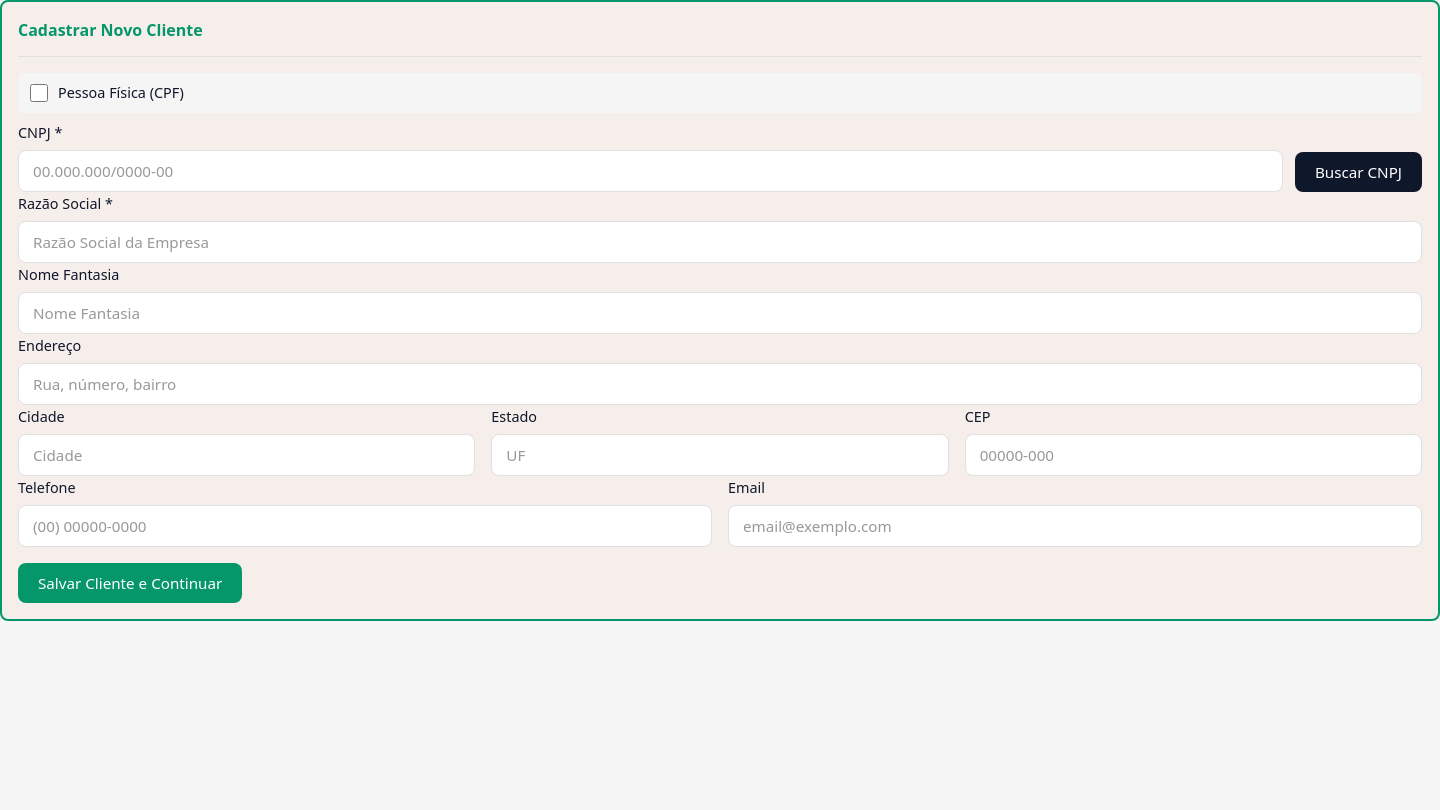
Test: NovoClienteForm › Alternar tipo de pessoa › deve mudar para pessoa fisica ao marcar checkbox
Step 1. Click the checkbox labelled "Pessoa Física (CPF)" → click(39, 93), box left=30, top=84, right=48, bottom=102
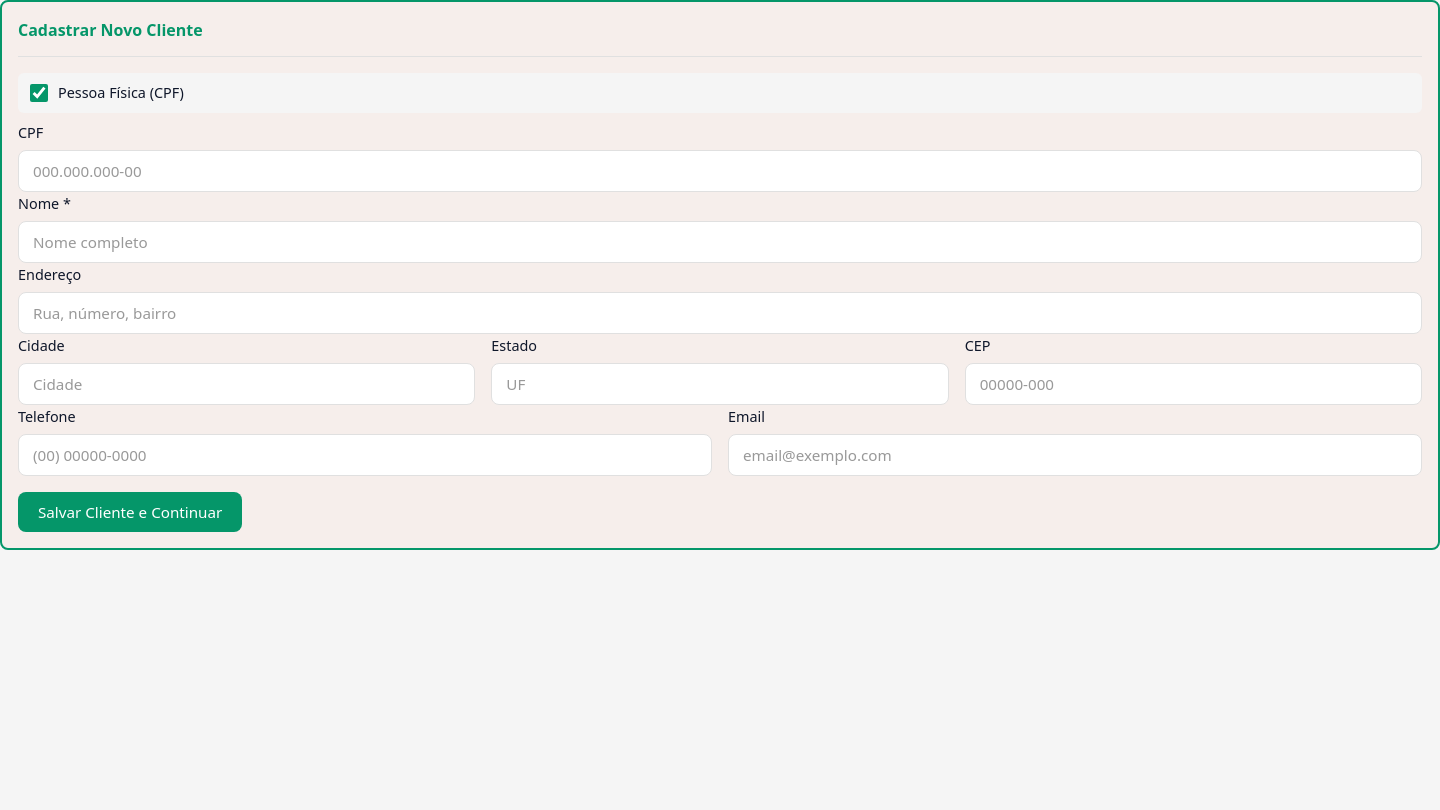
Expected: the field labelled "Nome *" is shown, left=18, top=221, right=1422, bottom=263
Expected: the label labelled "Nome Fantasia" is gone
Expected: the button "Buscar CNPJ" is gone
